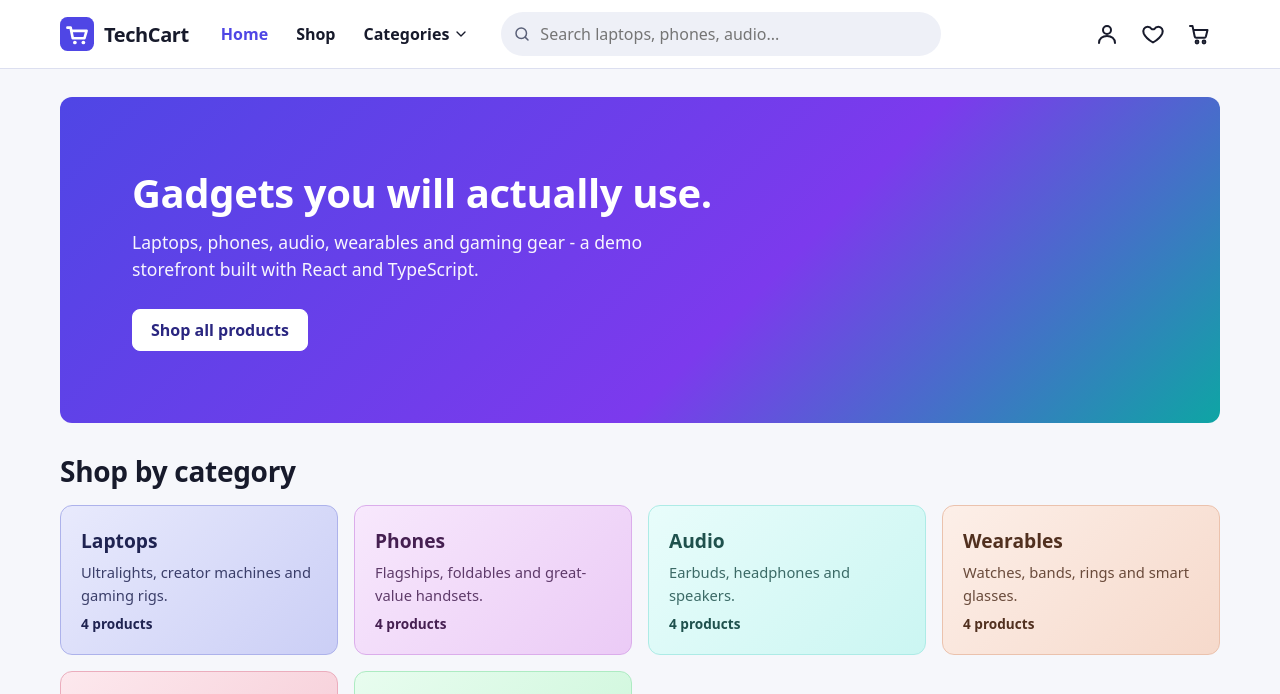
SearchBar › opens a suggestion when clicked
Type "kestrel ring" into the dropdown named "Search products".
click(721, 34); type("kestrel ring")  # box x1=501 y1=12 x2=941 y2=56
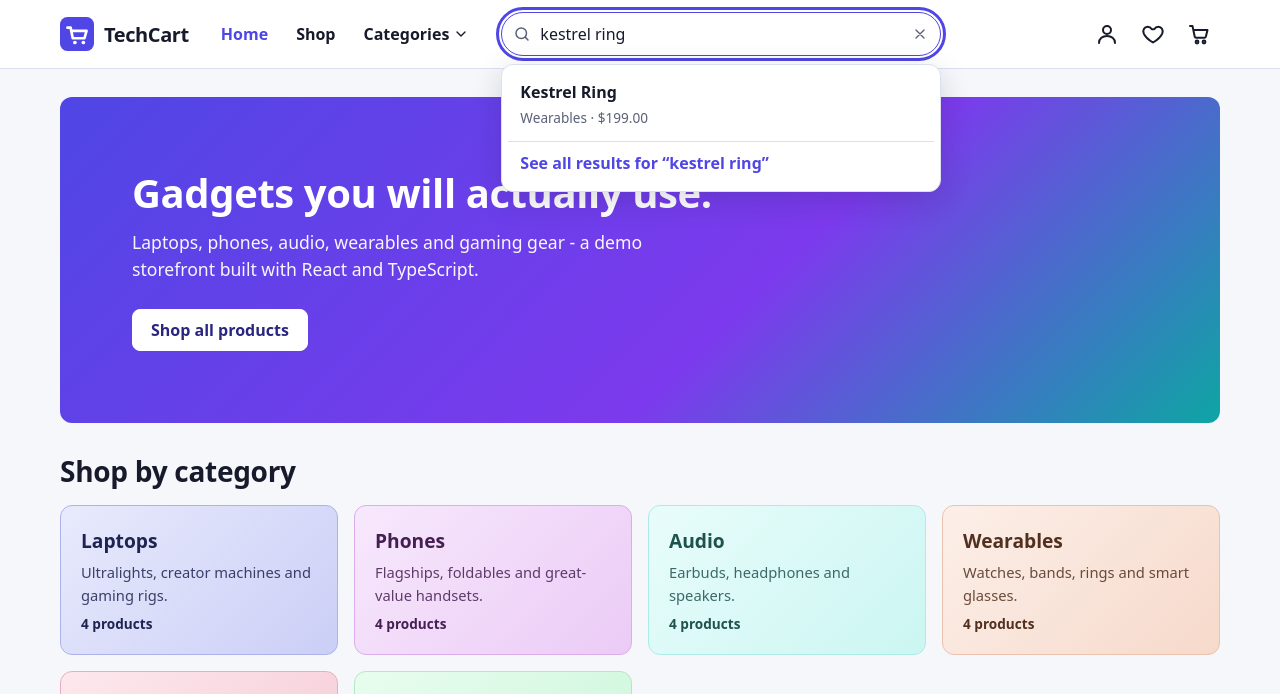
Click the option "Kestrel Ring Wearables · $199.00".
click(584, 104)  # box x1=520 y1=81 x2=648 y2=127
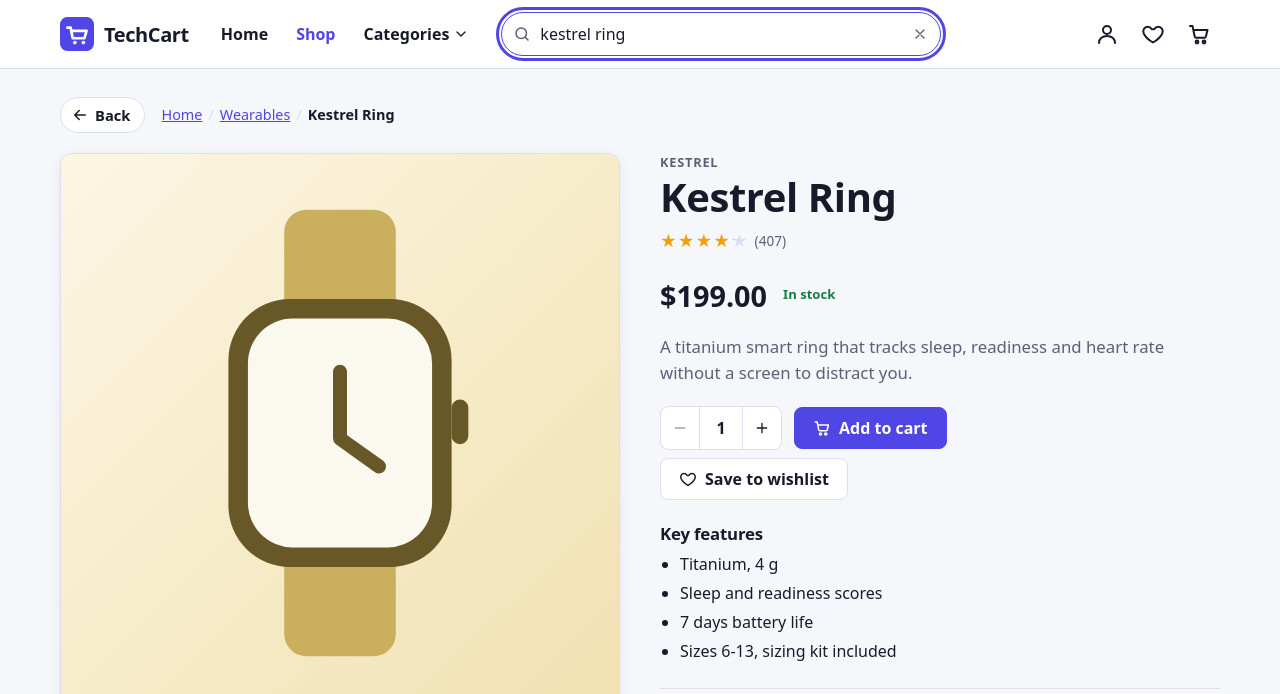
Expected: the heading "Kestrel Ring" is shown, x1=660 y1=169 x2=896 y2=224
